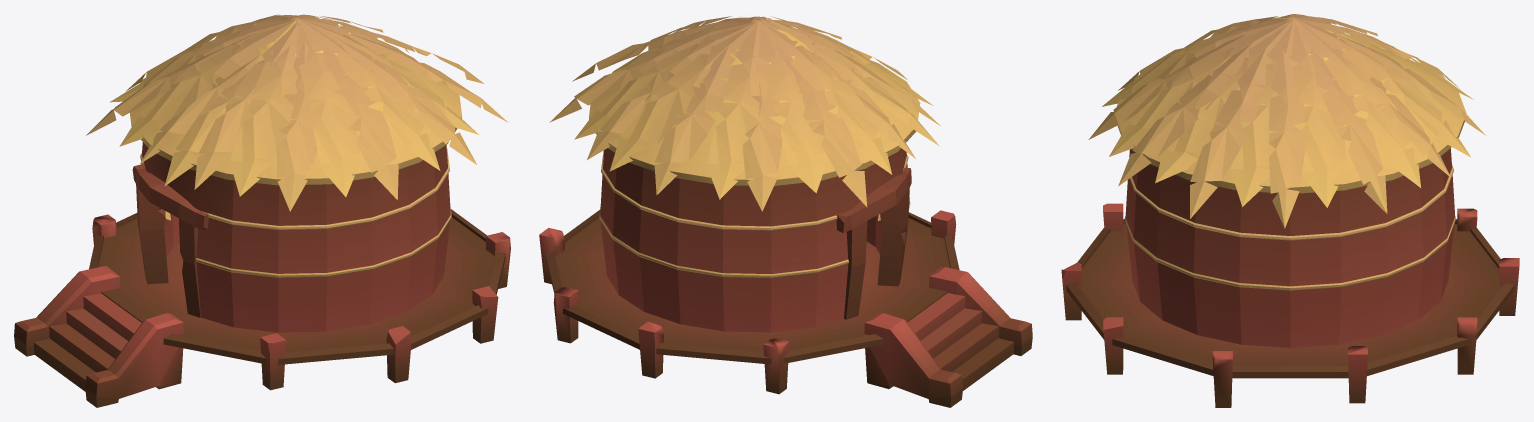
3 renders of one model, left to right at view 1: azimuth 30°, elevation 25°; view 2: azimuth 150°, elevation 25°; view 3: azimuth 270°, elevation 25°, orthographic. The views are drawn at different scales.
Parts seen in each view (by area): view 1: House1; view 2: House1; view 3: House1.
Boxes of the visible parts, x1,y1,x2,y2 form: House1: (14, 14, 510, 407); House1: (539, 16, 1032, 407); House1: (1061, 14, 1519, 407).
Bounding box in the file's own units: 442 × 300 × 391.
1 material, 1 textured.
